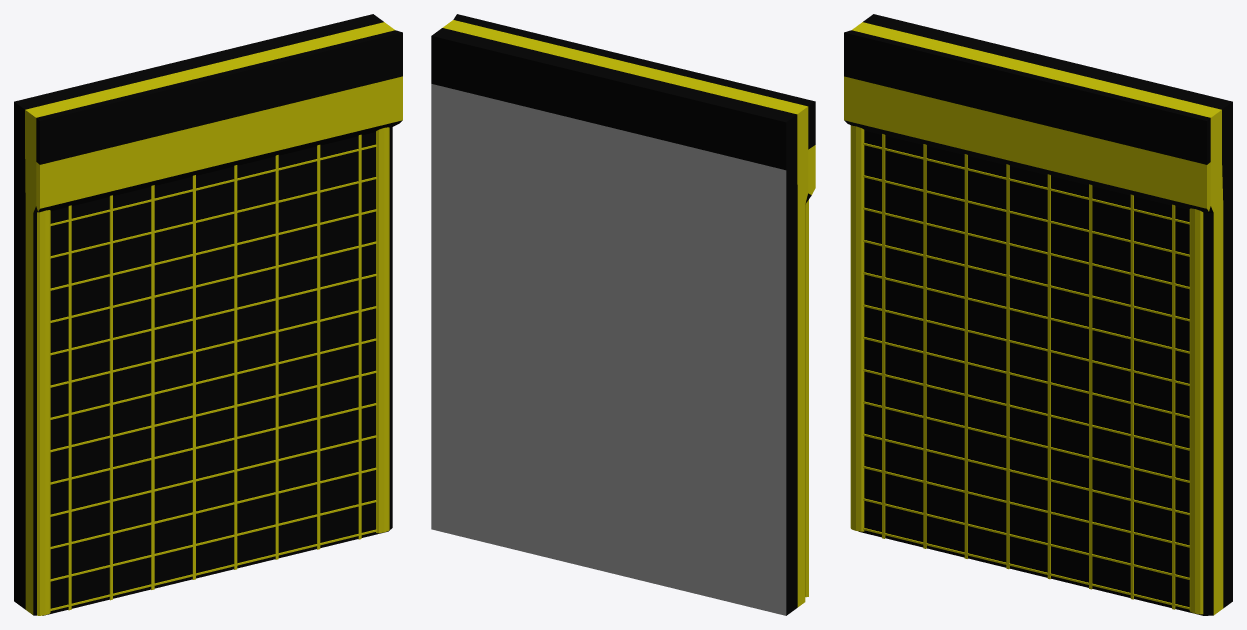
The model's file is Climbable_Wall.fbx.
3 views of the same model, side by side, from view 1: azimuth 30°, elevation 25°; view 2: azimuth 150°, elevation 25°; view 3: azimuth 330°, elevation 25° (orthographic).
Visible parts, largest first — view 1: Climbable_Wall; view 2: Climbable_Wall; view 3: Climbable_Wall.
Part boxes in pixels (bbox=[...]): Climbable_Wall: bbox=[14, 14, 402, 615]; Climbable_Wall: bbox=[431, 14, 815, 615]; Climbable_Wall: bbox=[844, 14, 1232, 615].
Size of the model in its own units: 11.1 by 14.64 by 1.47.
